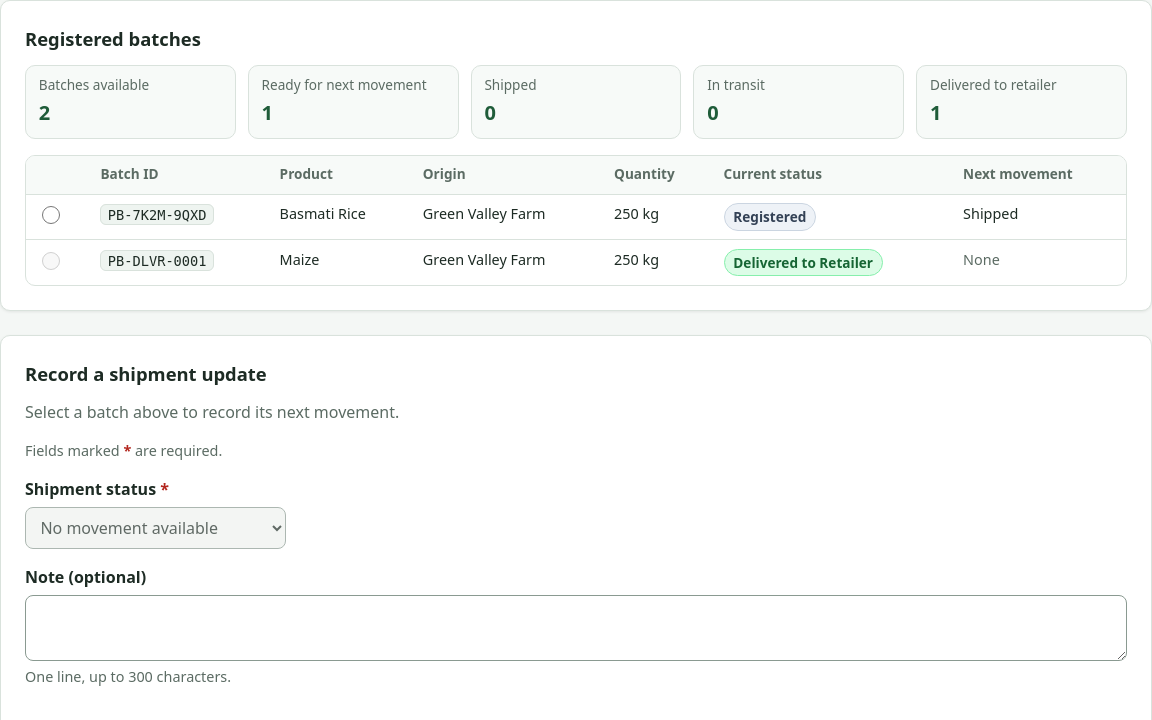
DistributorShipmentPanel › offers only the next status of the selected batch
Check: the table is shown, box [26,156,1126,285]
Click the radio button named "Select batch PB-7K2M-9QXD" at {"x": 51, "y": 215}, box [42,206,60,224]
(page scrolled)
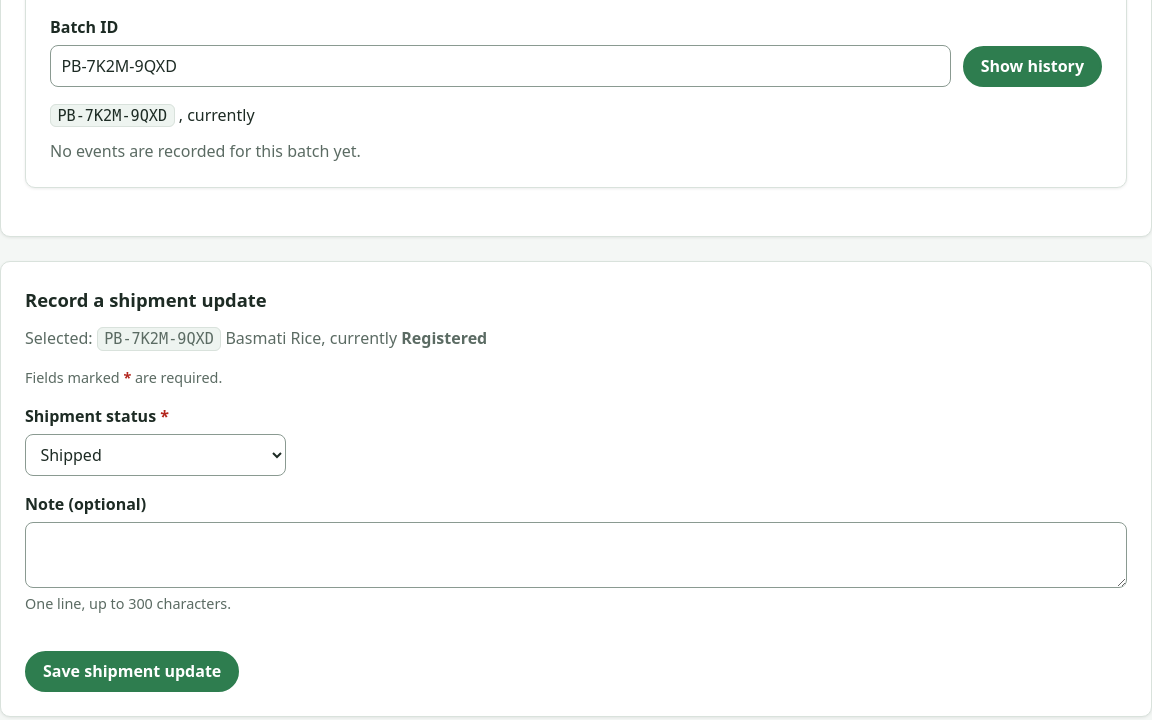
Check: the dropdown labelled "Shipment status *" shows "Shipped", box [25,434,286,476]
